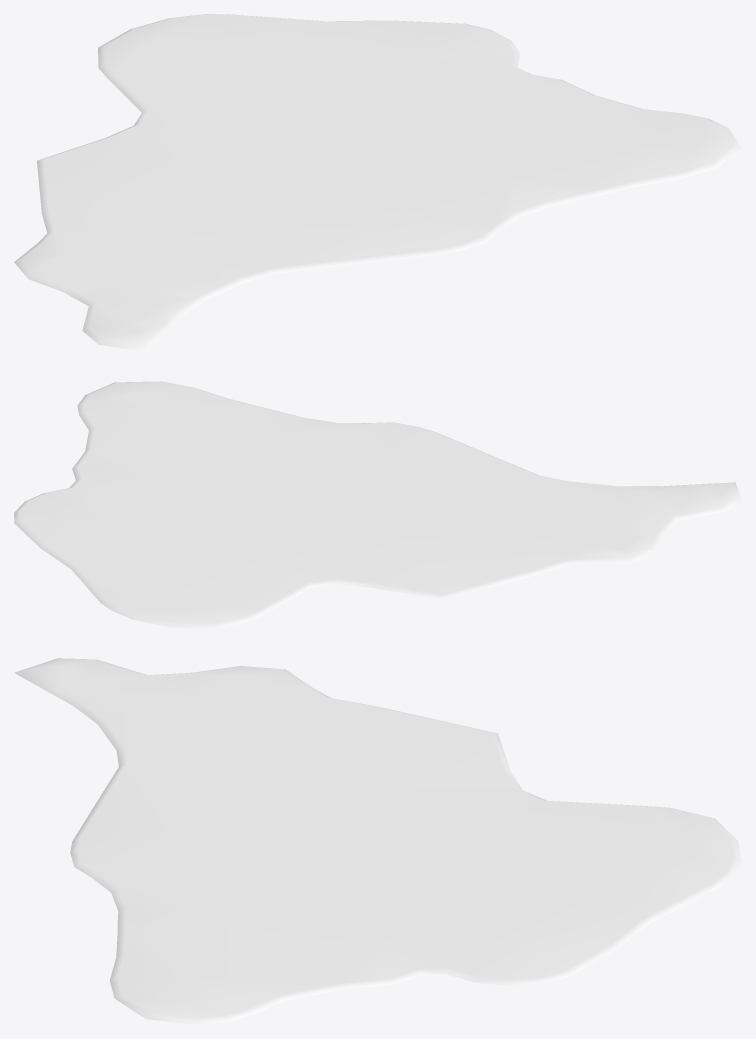
The model's file is leakingLiquid.fbx.
3 views of the same model, one above another, from view 1: azimuth 30°, elevation 25°; view 2: azimuth 150°, elevation 25°; view 3: azimuth 270°, elevation 25° (orthographic). The views are drawn at different scales.
Parts seen in each view (by area): view 1: leakingLiquid; view 2: leakingLiquid; view 3: leakingLiquid.
Part boxes in pixels (x1,y1,x2,y2): leakingLiquid: (14,14,741,352); leakingLiquid: (14,381,741,629); leakingLiquid: (14,658,741,1024).
Bounding box in the file's own units: 0.559 × 0.00217 × 0.4695.
Materials: 1 (1 with a texture image).
